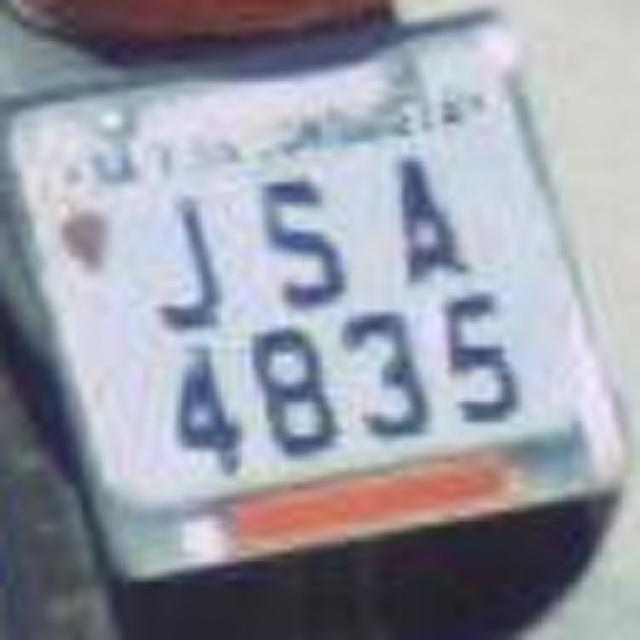3: (320, 288, 452, 448)
4: (152, 328, 260, 484)
5: (424, 271, 544, 424)
8: (240, 308, 355, 468)
A: (364, 148, 476, 292)
J: (125, 180, 240, 345)
S: (248, 172, 352, 308)
